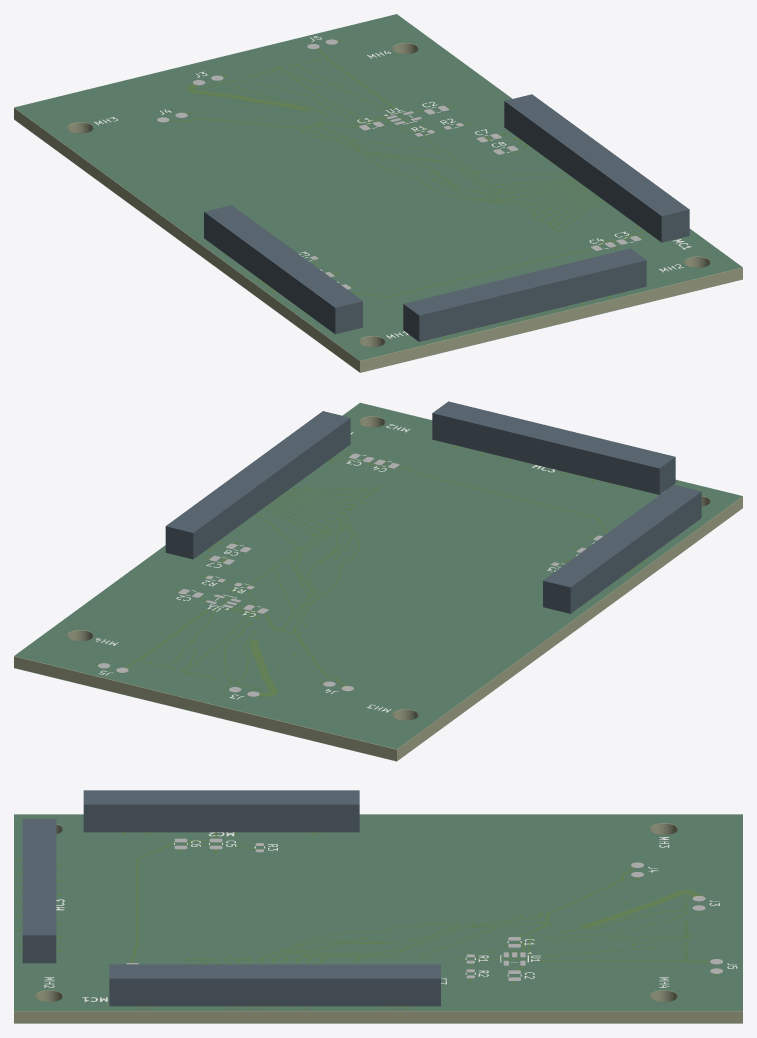
Rendered from xem8305-direct-r2.glb.
3 views of the same model, one above another, from view 1: azimuth 30°, elevation 25°; view 2: azimuth 150°, elevation 25°; view 3: azimuth 270°, elevation 25° (orthographic). The views are drawn at different scales.
Parts seen in each view (by area): view 1: Material-batched review assembly; view 2: Material-batched review assembly; view 3: Material-batched review assembly.
Boxes of the visible parts, bbox=[...] form: Material-batched review assembly: bbox=[14, 14, 742, 372]; Material-batched review assembly: bbox=[14, 401, 742, 761]; Material-batched review assembly: bbox=[14, 790, 742, 1023].
Size of the model in its own units: 0.053 by 0.0071 by 0.083.
